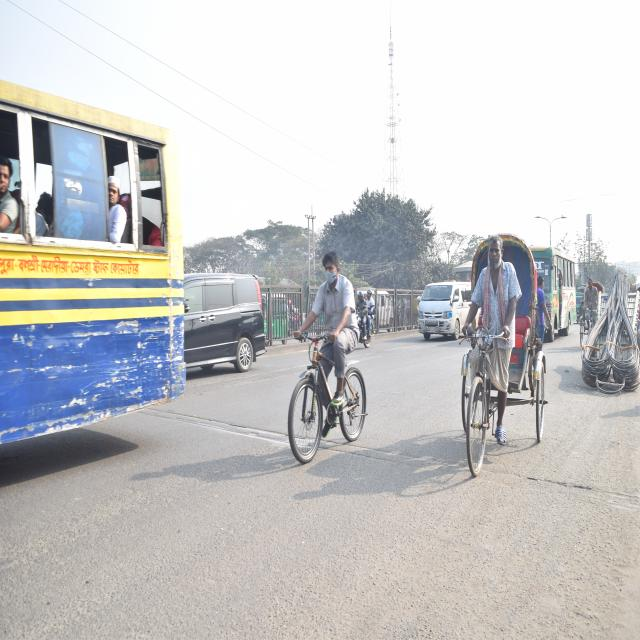bus: (0, 86, 188, 462), (534, 241, 581, 334)
car: (180, 261, 273, 376)
microbus: (409, 272, 470, 342)
motorbike: (351, 294, 385, 351)
